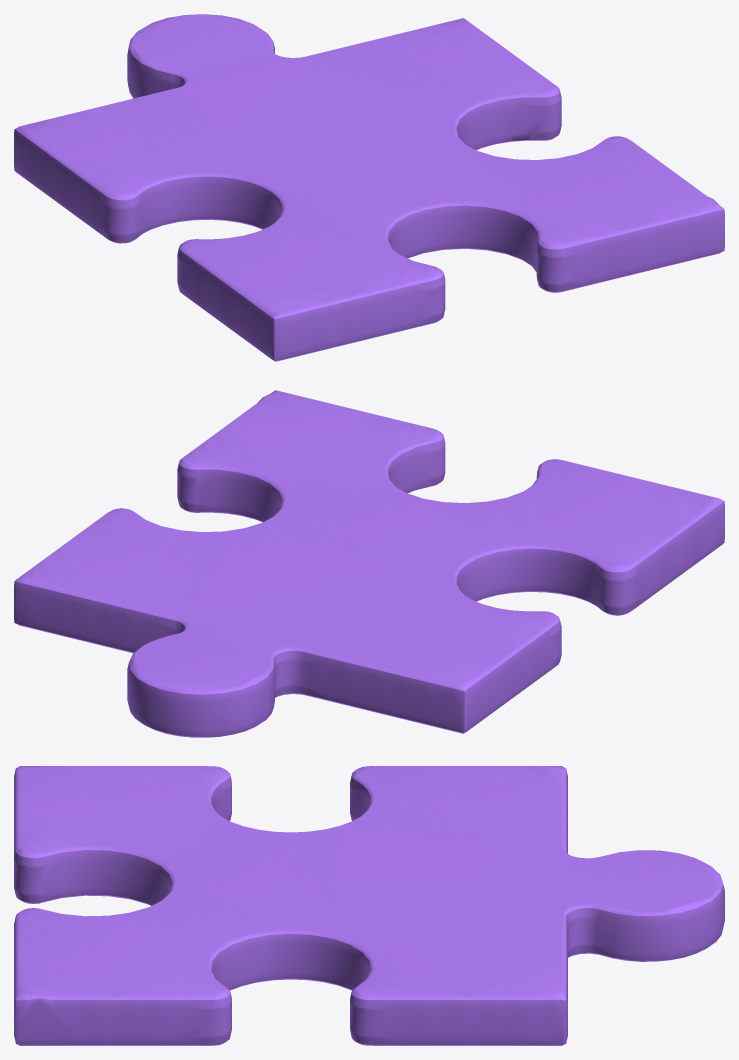
The model's file is jigsaw.glb.
The picture shows the model from 3 angles, top to bottom: view 1: azimuth 30°, elevation 25°; view 2: azimuth 150°, elevation 25°; view 3: azimuth 270°, elevation 25°; orthographic projection. The views are drawn at different scales.
Parts seen in each view (by area): view 1: Puz2IIIO; view 2: Puz2IIIO; view 3: Puz2IIIO.
Part boxes in pixels (<box>): Puz2IIIO: <box>14,14,724,361</box>; Puz2IIIO: <box>14,390,724,737</box>; Puz2IIIO: <box>14,766,724,1045</box>.
Bounding box in the file's own units: 0.03 × 0.00301 × 0.0385.
